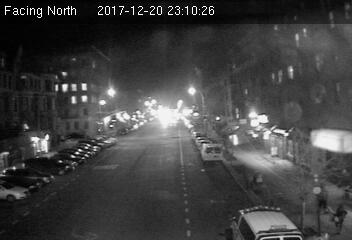police: (229, 202, 308, 240)
truck: (202, 144, 223, 163)
